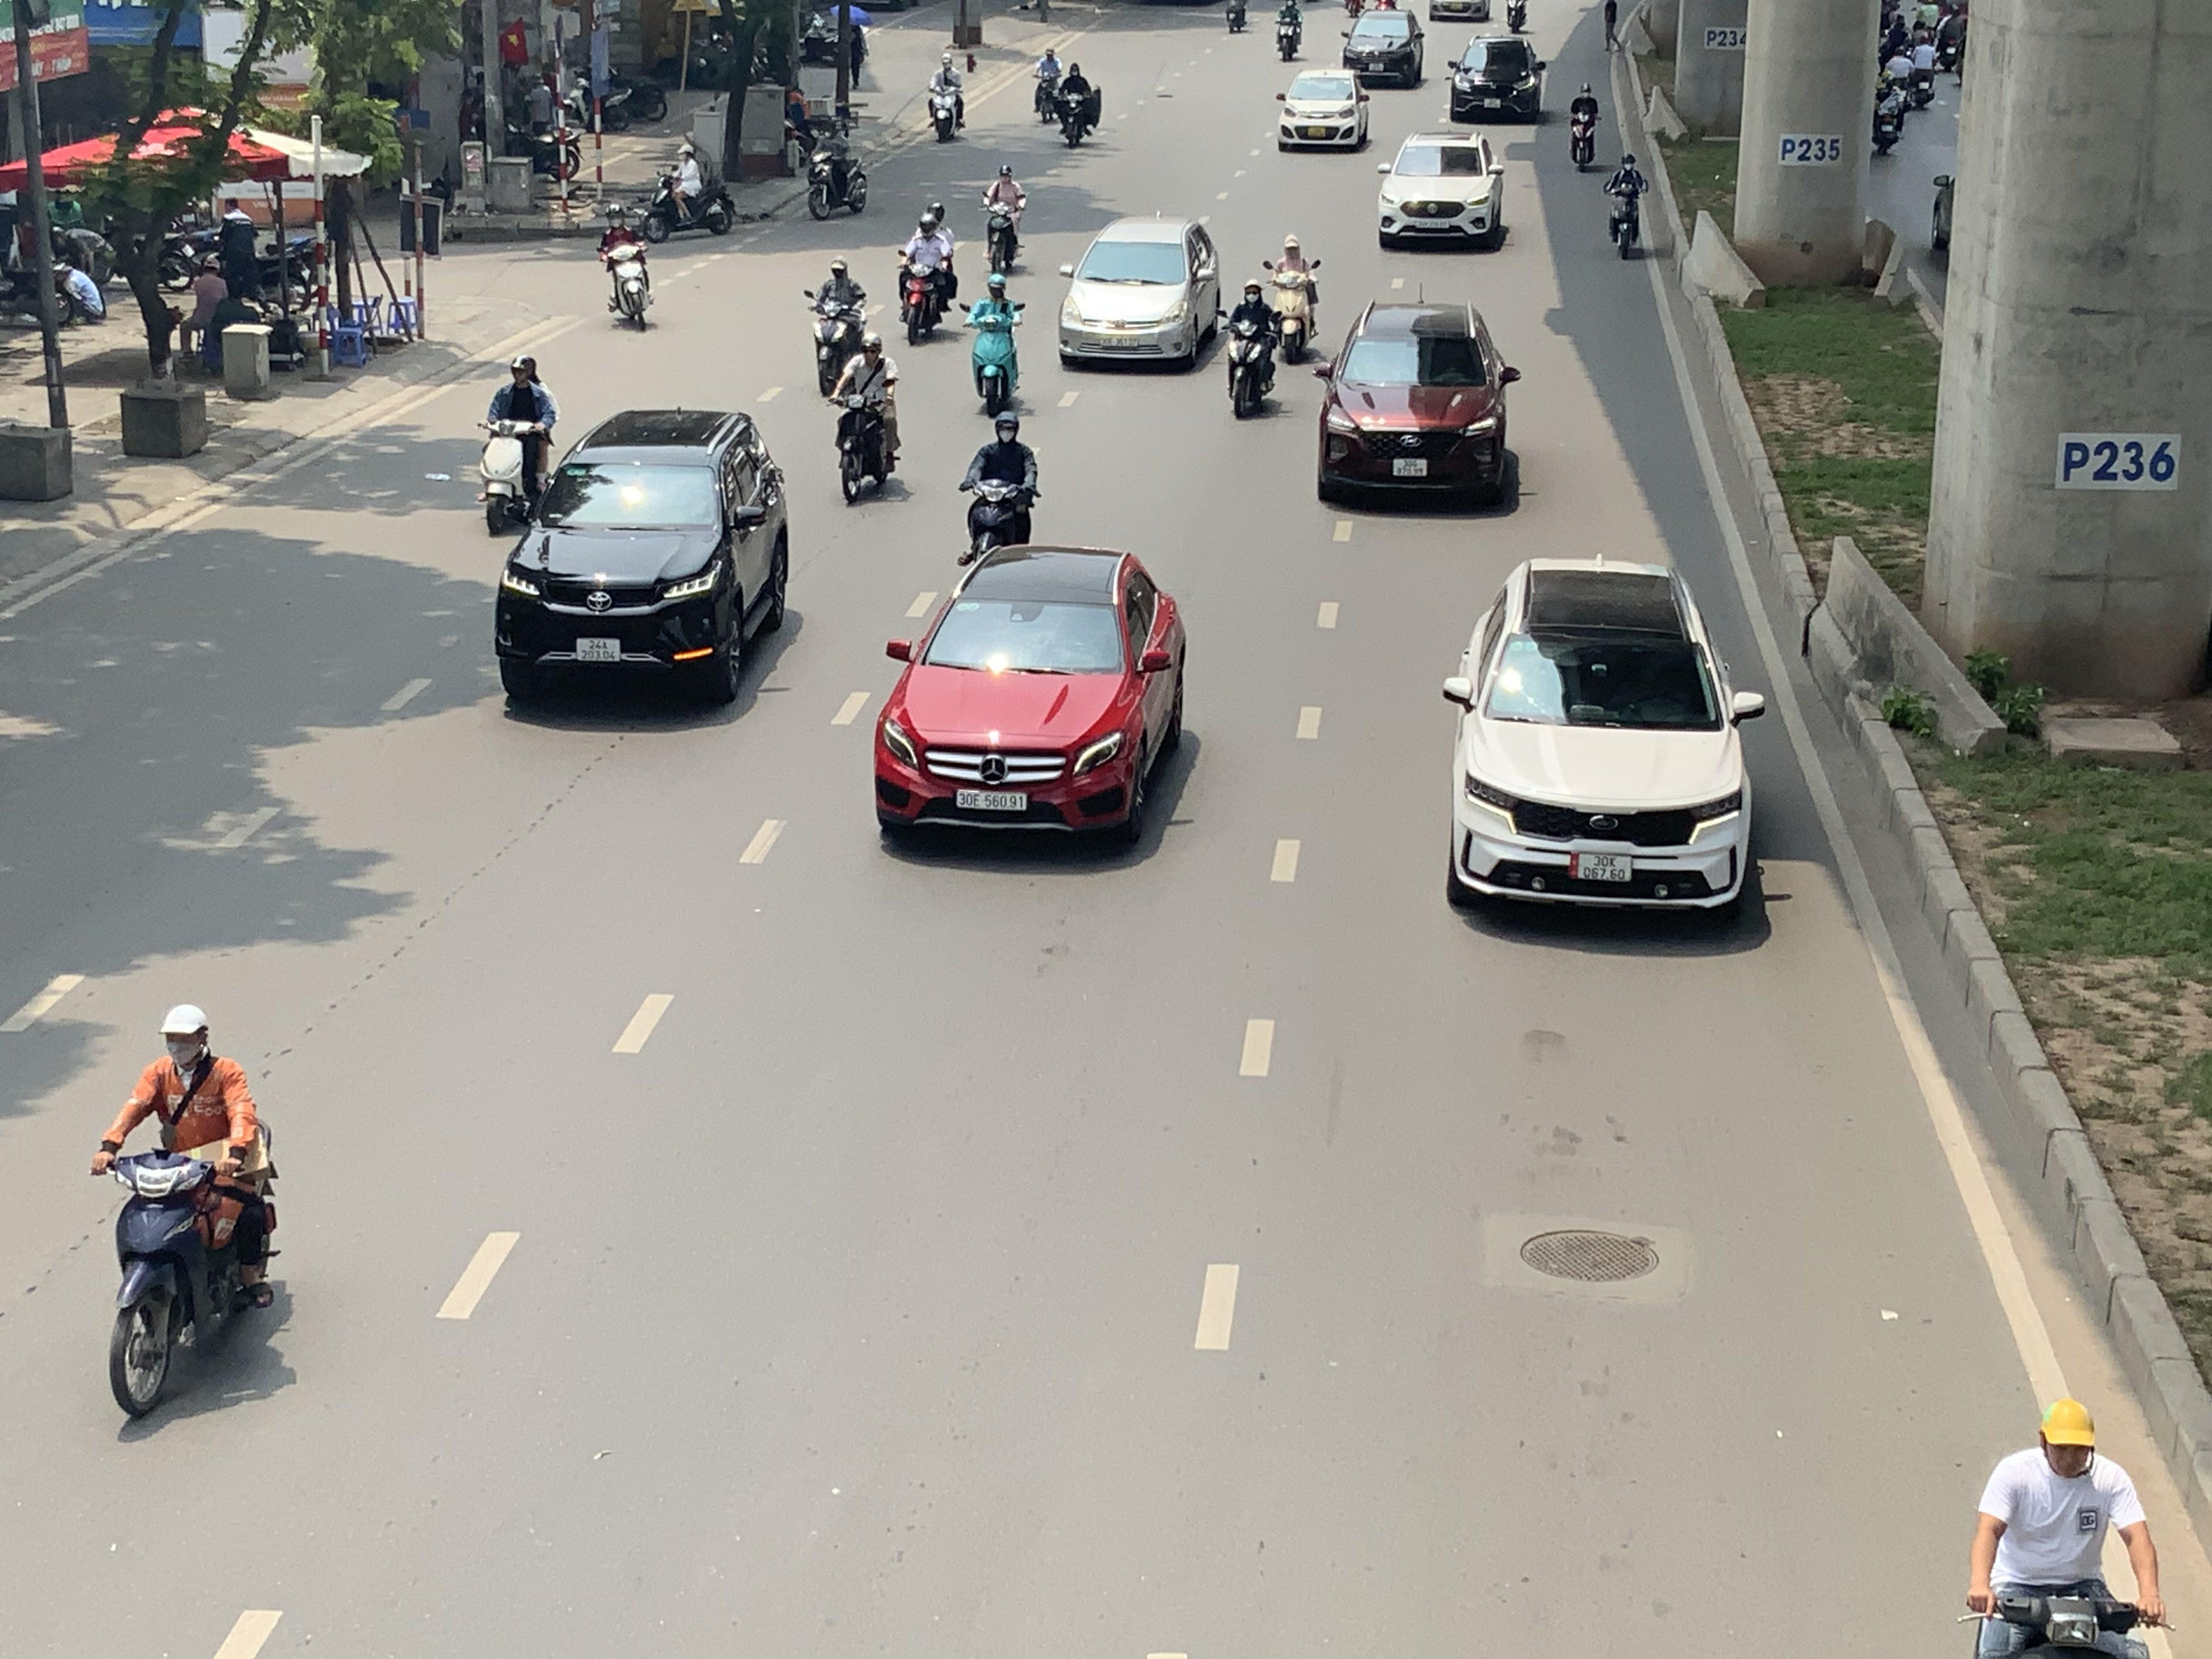BSD: (956, 789, 1028, 810)
BSV: (1576, 852, 1634, 884), (577, 638, 622, 660), (1392, 458, 1428, 477)
car: (1440, 556, 1770, 925), (871, 544, 1190, 854), (493, 408, 792, 709), (1312, 300, 1524, 514), (1057, 218, 1223, 373), (1376, 129, 1510, 251), (1446, 35, 1547, 124), (1275, 68, 1372, 152), (1341, 9, 1426, 89)
motorbike: (94, 1002, 284, 1422), (1965, 1396, 2170, 1659), (477, 356, 559, 537), (956, 411, 1042, 568), (831, 333, 906, 505), (643, 138, 737, 240), (965, 272, 1028, 420), (895, 207, 960, 345), (805, 258, 869, 396), (1221, 279, 1282, 420), (1263, 234, 1324, 362), (803, 113, 869, 220), (599, 207, 655, 331), (981, 164, 1028, 275), (1604, 150, 1648, 260), (1054, 58, 1103, 148), (925, 52, 967, 143), (1872, 63, 1909, 159), (1902, 24, 1940, 112), (1029, 40, 1066, 125), (1568, 80, 1601, 171), (1932, 2, 1970, 77), (1273, 0, 1306, 61)
